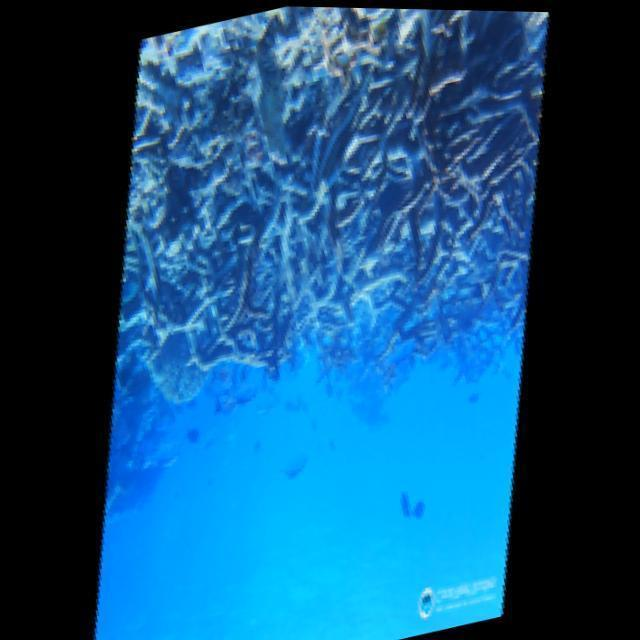Dead Coral: (176, 42, 532, 333)
